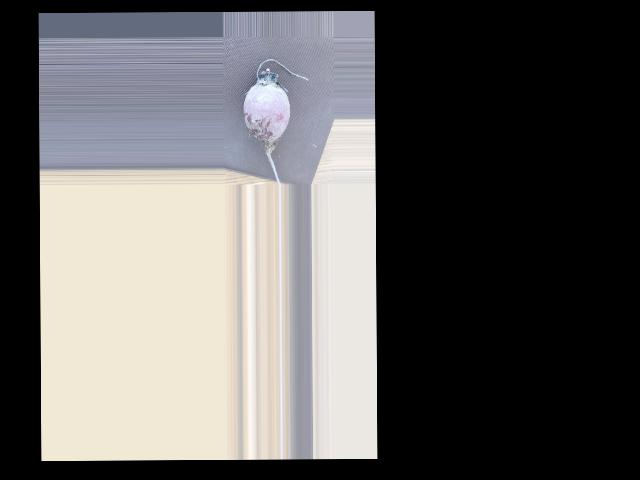beet: (242, 59, 309, 185)
